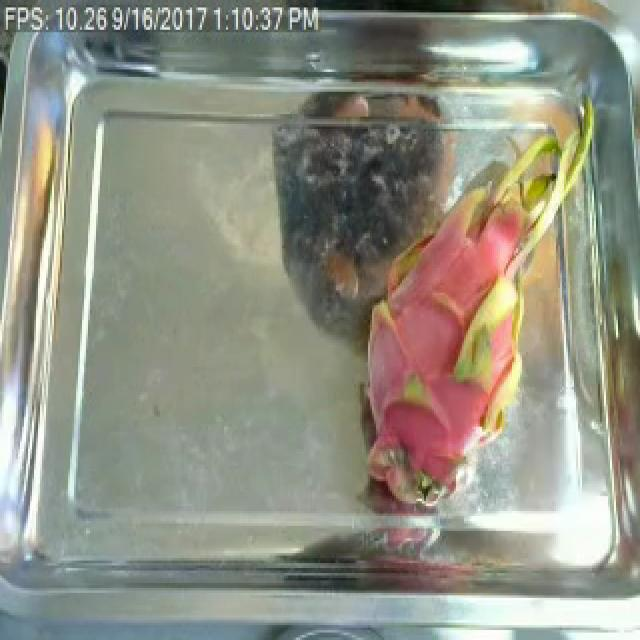fruit: (350, 114, 584, 521)
